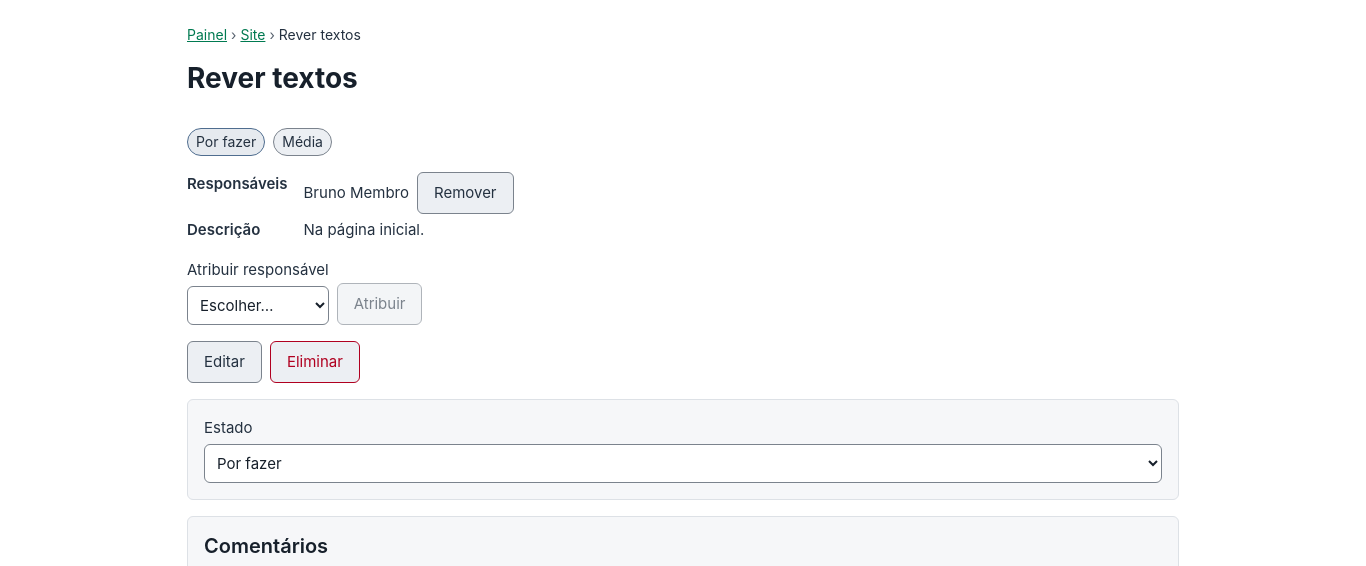
Test: TaskDetailView (US19, US06, US07, US22) › o Gestor edita o título, a descrição e a prioridade
Click the button "Editar".
click(224, 362)  # box [187, 341, 262, 383]
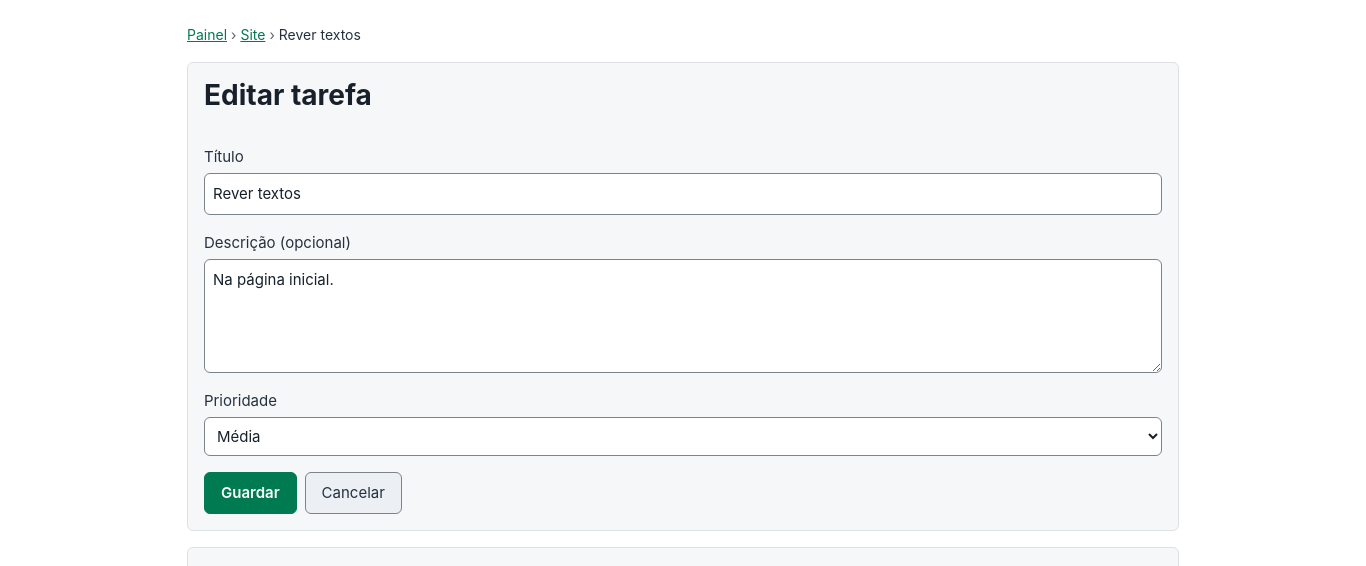
Replace the text in the field labelled "Título" with "Rever textos da página inicial" at (683, 194), box [204, 173, 1162, 215]
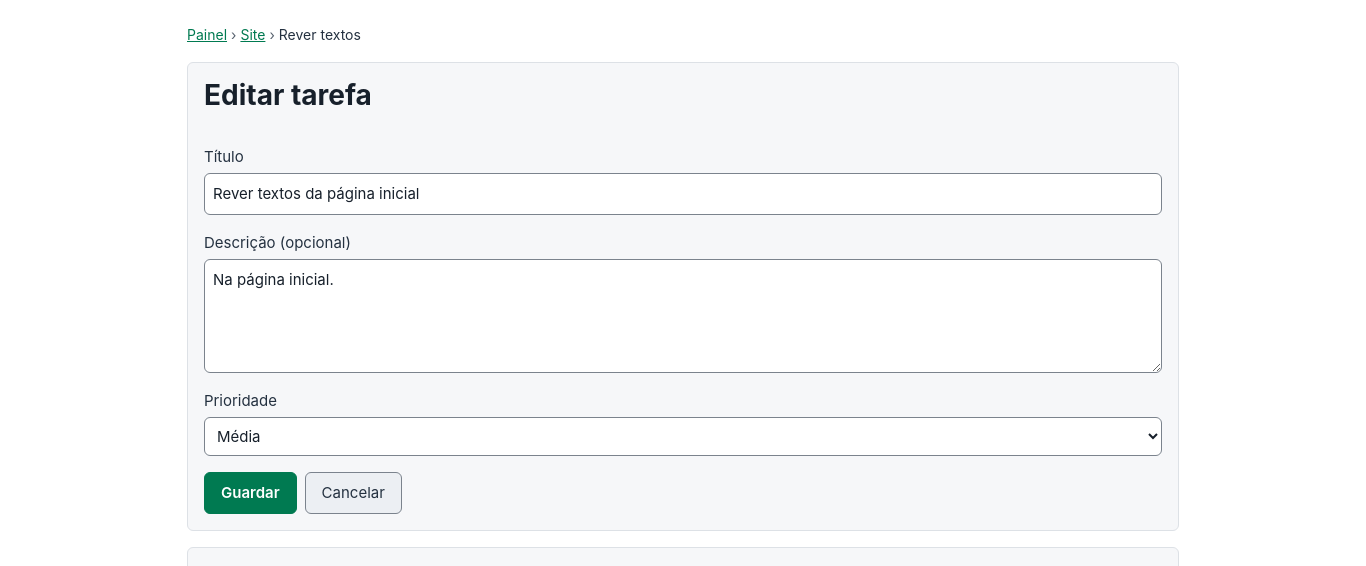
Clear the text box labelled "Descrição (opcional)" at (683, 316), box [204, 259, 1162, 373]
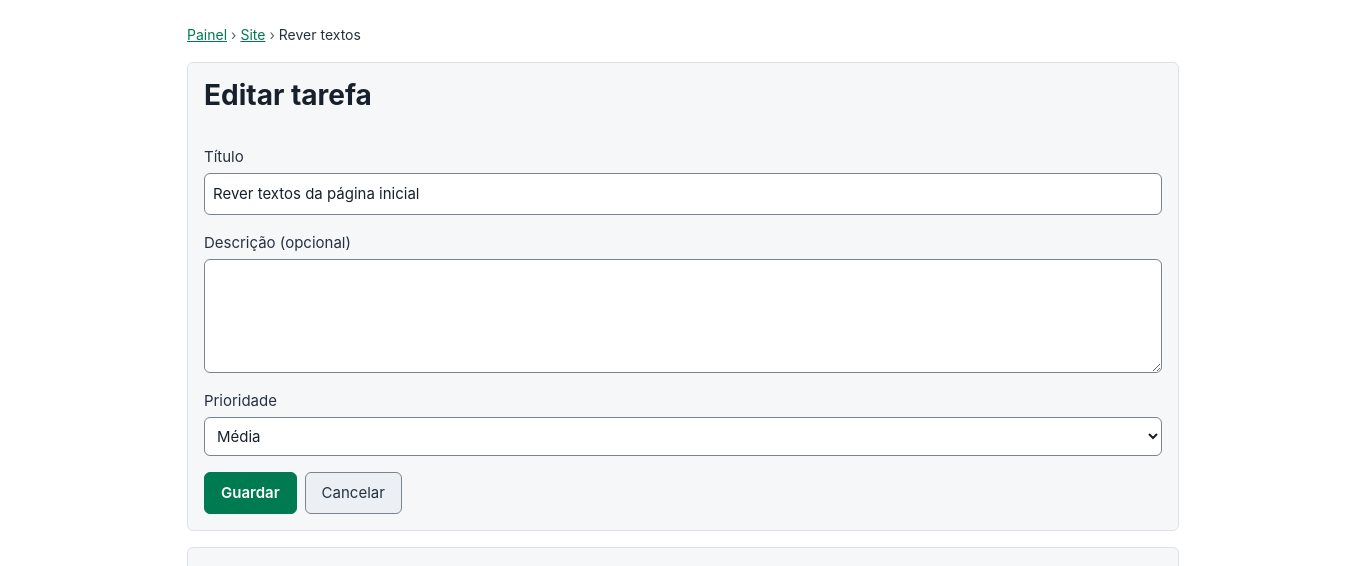
Select "Baixa" in the dropdown labelled "Prioridade" at (683, 436), box [204, 417, 1162, 456]
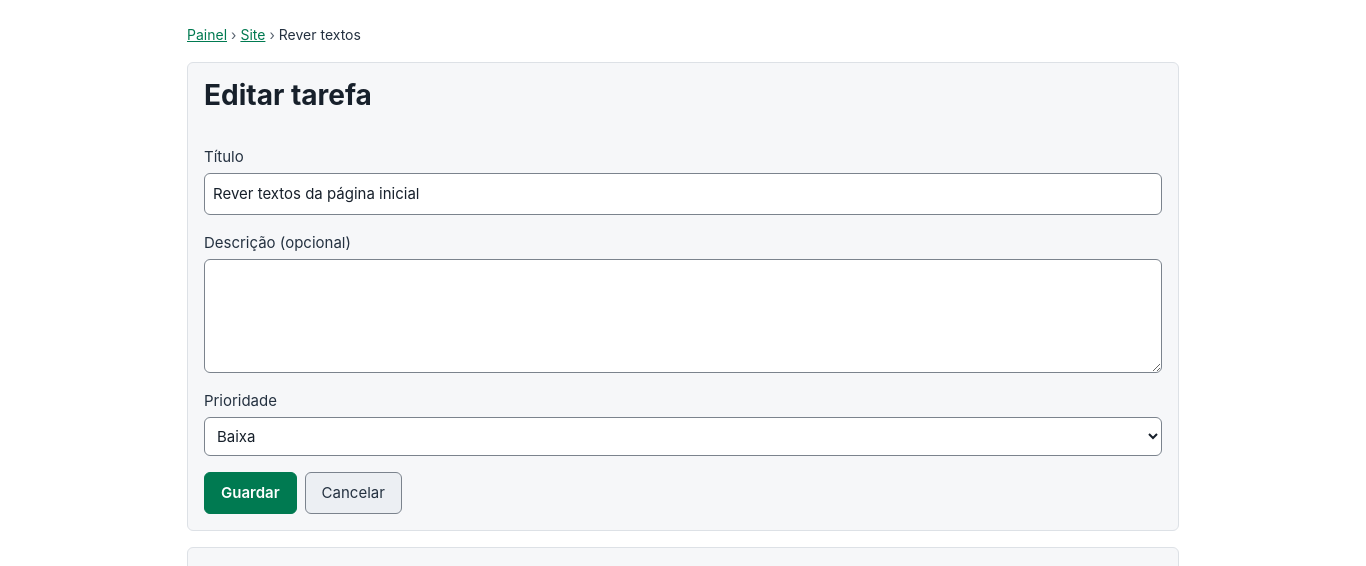
Submit the form "Título Descrição (opcional) Prioridade Guardar Cancelar", box [204, 145, 1162, 514]
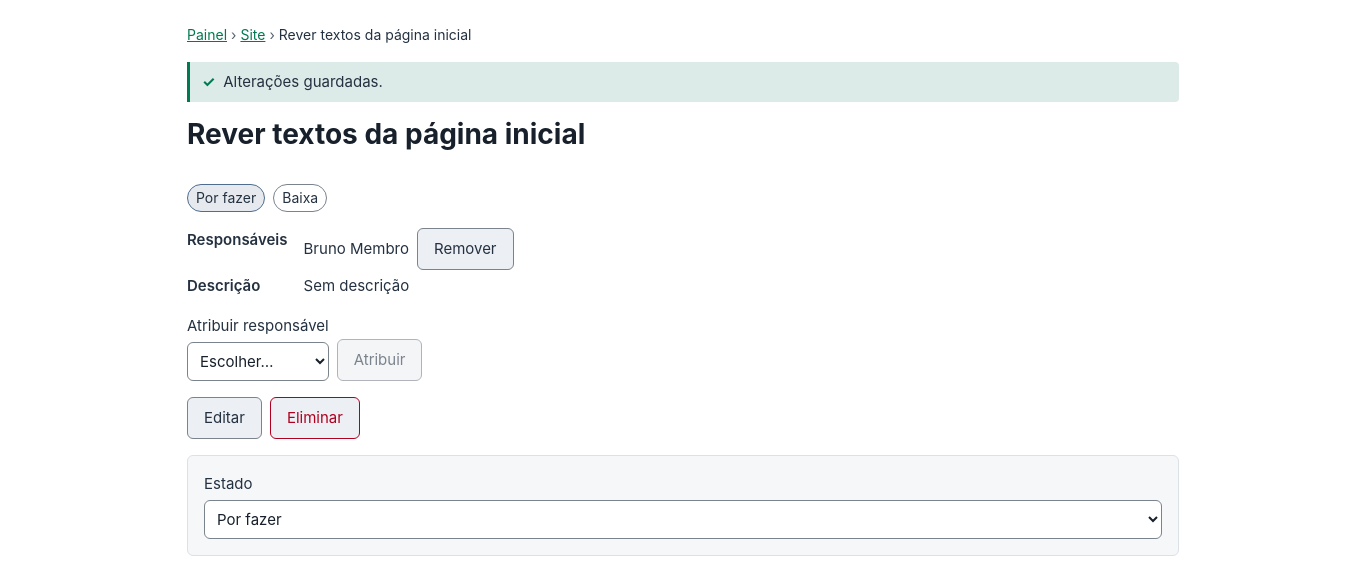
expect the heading "Rever textos da página inicial" is shown: met, box [187, 117, 585, 151]
expect the text "Sem descrição" is shown: met, box [304, 276, 409, 295]
expect the text "Bruno Membro" is shown: met, box [304, 239, 409, 258]
